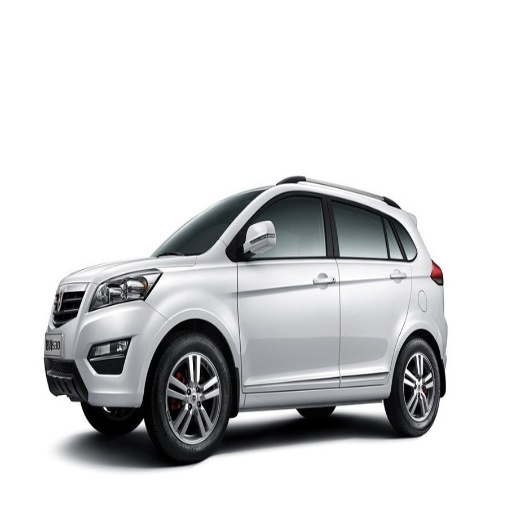back_left_door: (326, 194, 411, 381)
front_bumper: (44, 280, 168, 407)
front_glass: (158, 195, 256, 254)
front_left_door: (237, 191, 339, 386)
